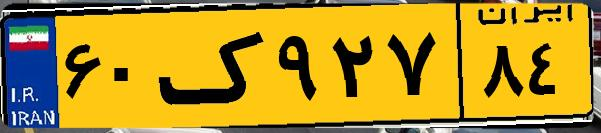0: (110, 28, 158, 98)
2: (330, 28, 385, 110)
4: (525, 38, 570, 115)
6: (57, 26, 110, 100)
7: (385, 28, 445, 110)
8: (475, 38, 525, 113)
9: (270, 28, 330, 110)
ک: (158, 12, 270, 120)
